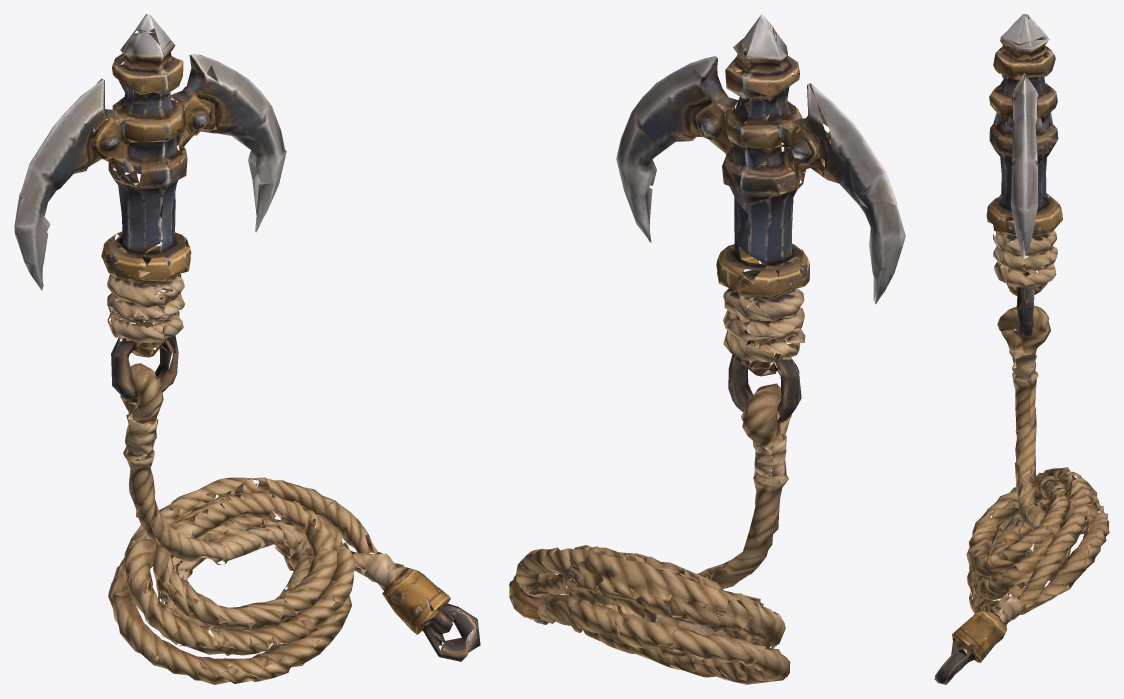
File: equip_sera_grapple.glb
The picture shows the model from 3 angles, left to right: view 1: azimuth 30°, elevation 25°; view 2: azimuth 150°, elevation 25°; view 3: azimuth 270°, elevation 25°; orthographic projection. The views are drawn at different scales.
Visible parts, largest first — view 1: Mesh_0; view 2: Mesh_0; view 3: Mesh_0.
Boxes of the visible parts, x1,y1,x2,y2 form: Mesh_0: (14, 14, 480, 684); Mesh_0: (509, 14, 905, 684); Mesh_0: (934, 14, 1109, 684).
Bounding box in the file's own units: 1.23 × 1.89 × 0.5324.
Materials: 1 (1 with a texture image).
